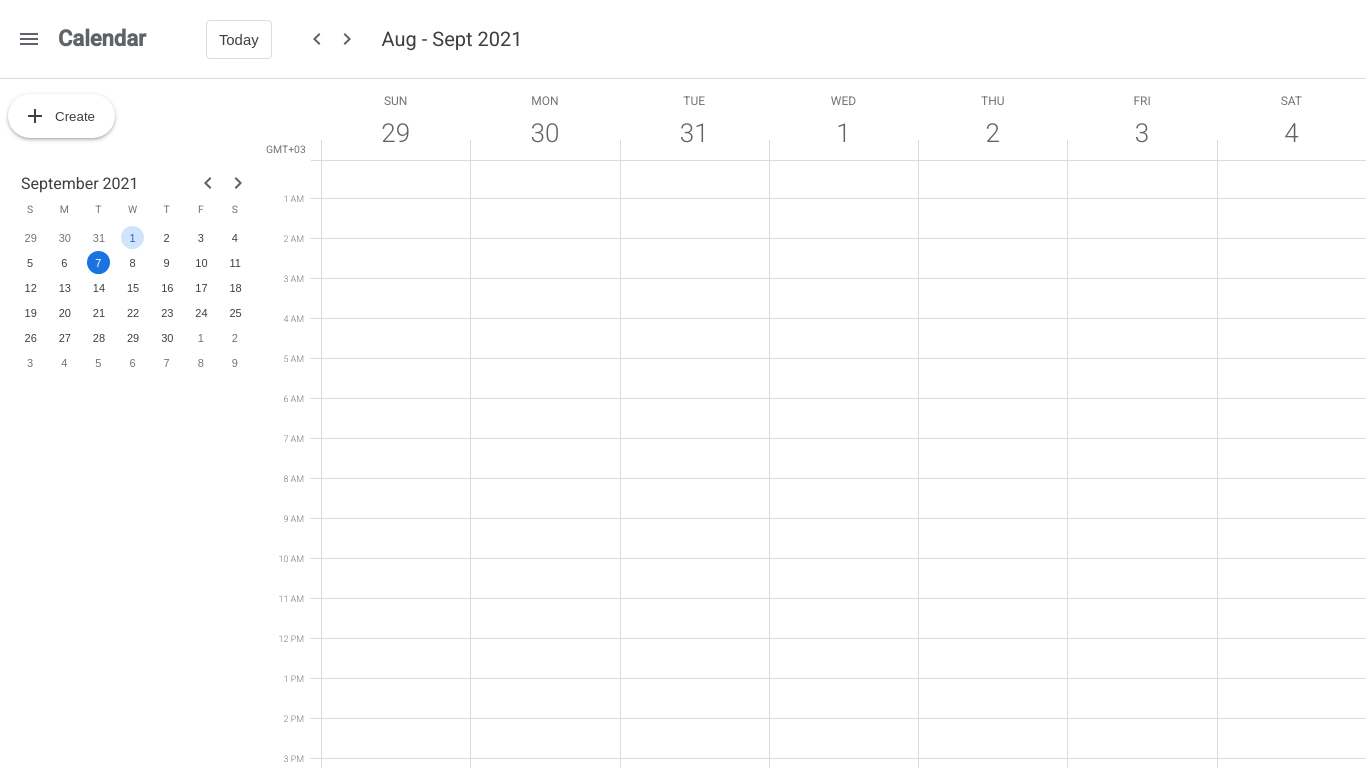
it: App › Header › should render next week days when next week button is clicked
This screenshot has width=1366, height=768.
Click the button with test id "next-week-button" at (347,39), box [332,24,362,54]
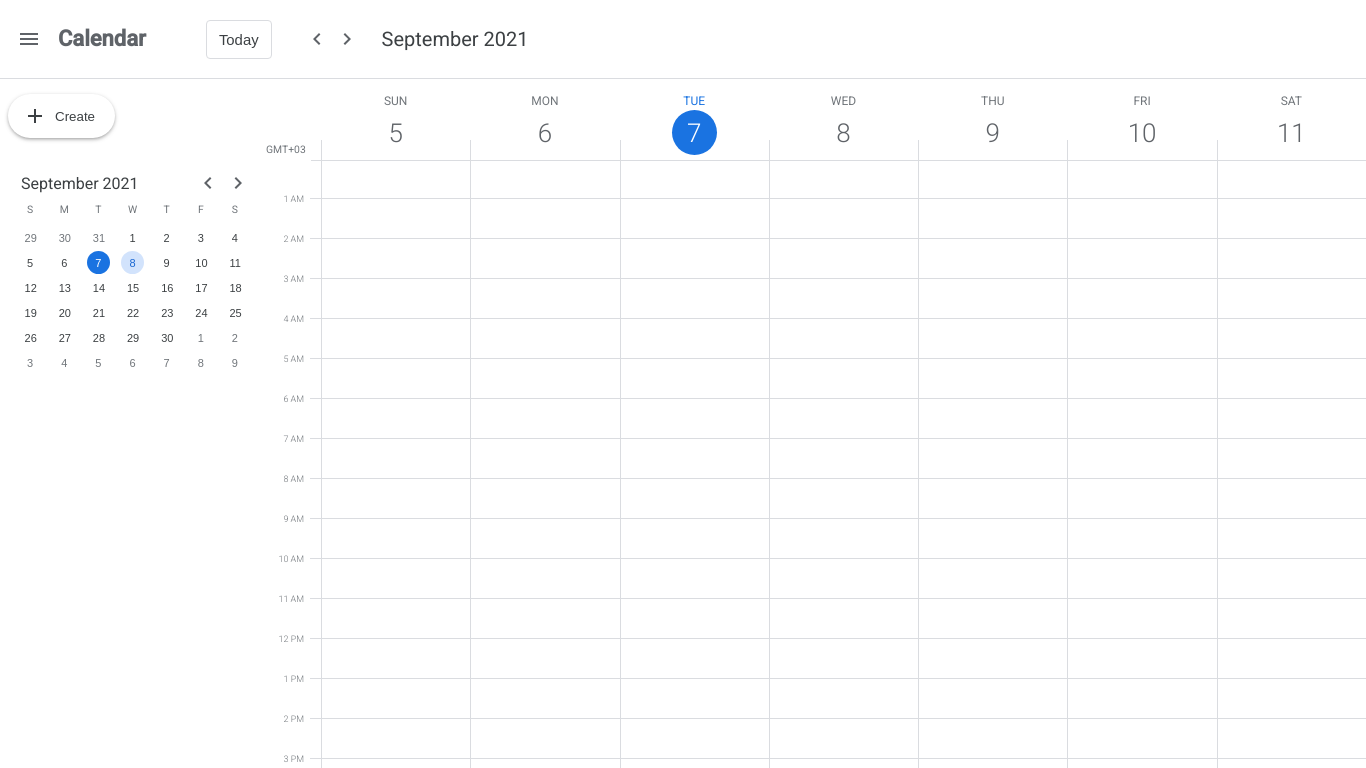
Expected: the text with test id "weekday-sun" reads "5", [388,118,403,148]
Expected: the text with test id "weekday-mon" reads "6", [538,118,552,148]
Expected: the text with test id "weekday-tue" reads "7", [687,118,701,148]
